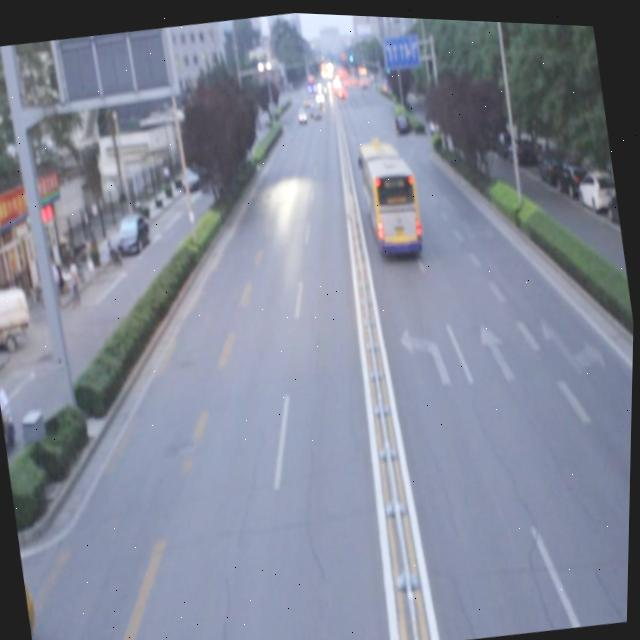van: (356, 133, 425, 256)
